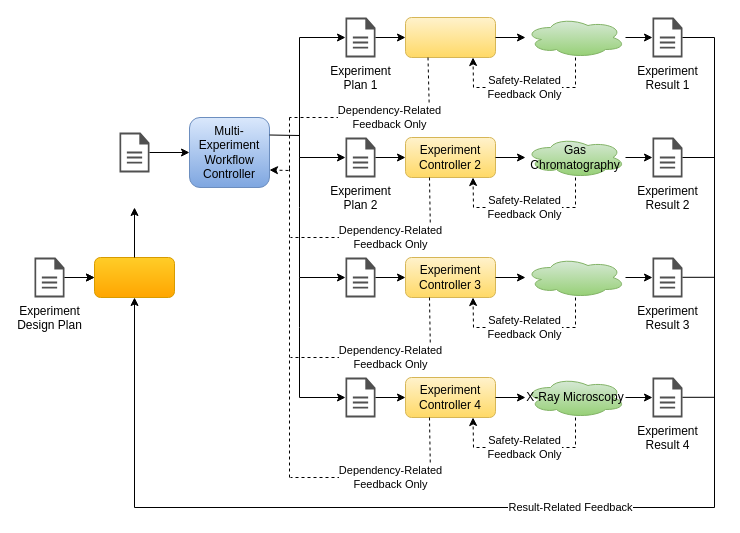
Image size: 740x533. Some labels were removed from this diagram. Each missing label, with the centre of its shape:
Experiment Controller 1: (x=450, y=37)
Experiment Plan 3: (x=360, y=277)
Experiment Plan 4: (x=360, y=397)
Experiment Planner: (x=134, y=277)
Liquid Chromatography: (x=575, y=277)
Multi-Experiment Workflow Plan: (x=134, y=152)
Synthesis: (x=575, y=37)
